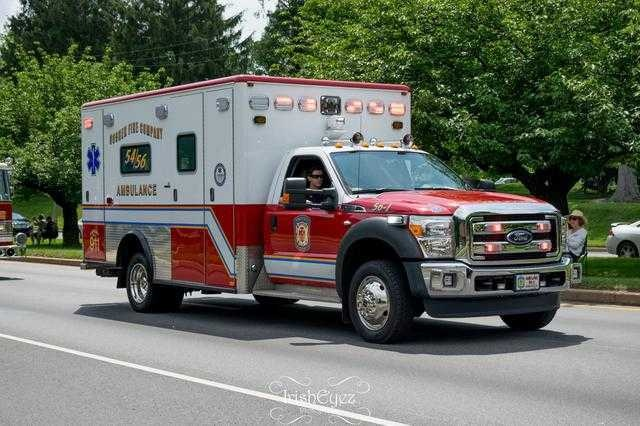Ambulance: (47, 83, 579, 325)
